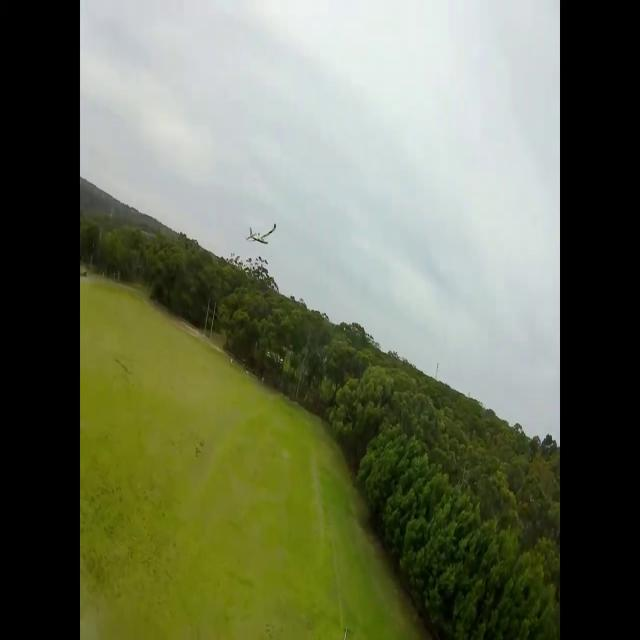iha: (247, 224, 277, 249)
